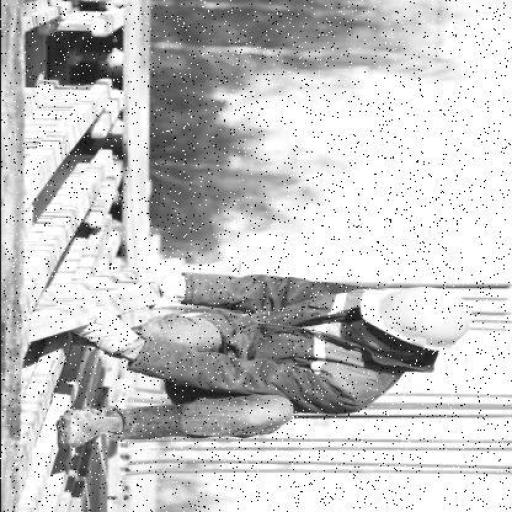person: (30, 241, 471, 452)
safety_shoe: (48, 399, 198, 449)
